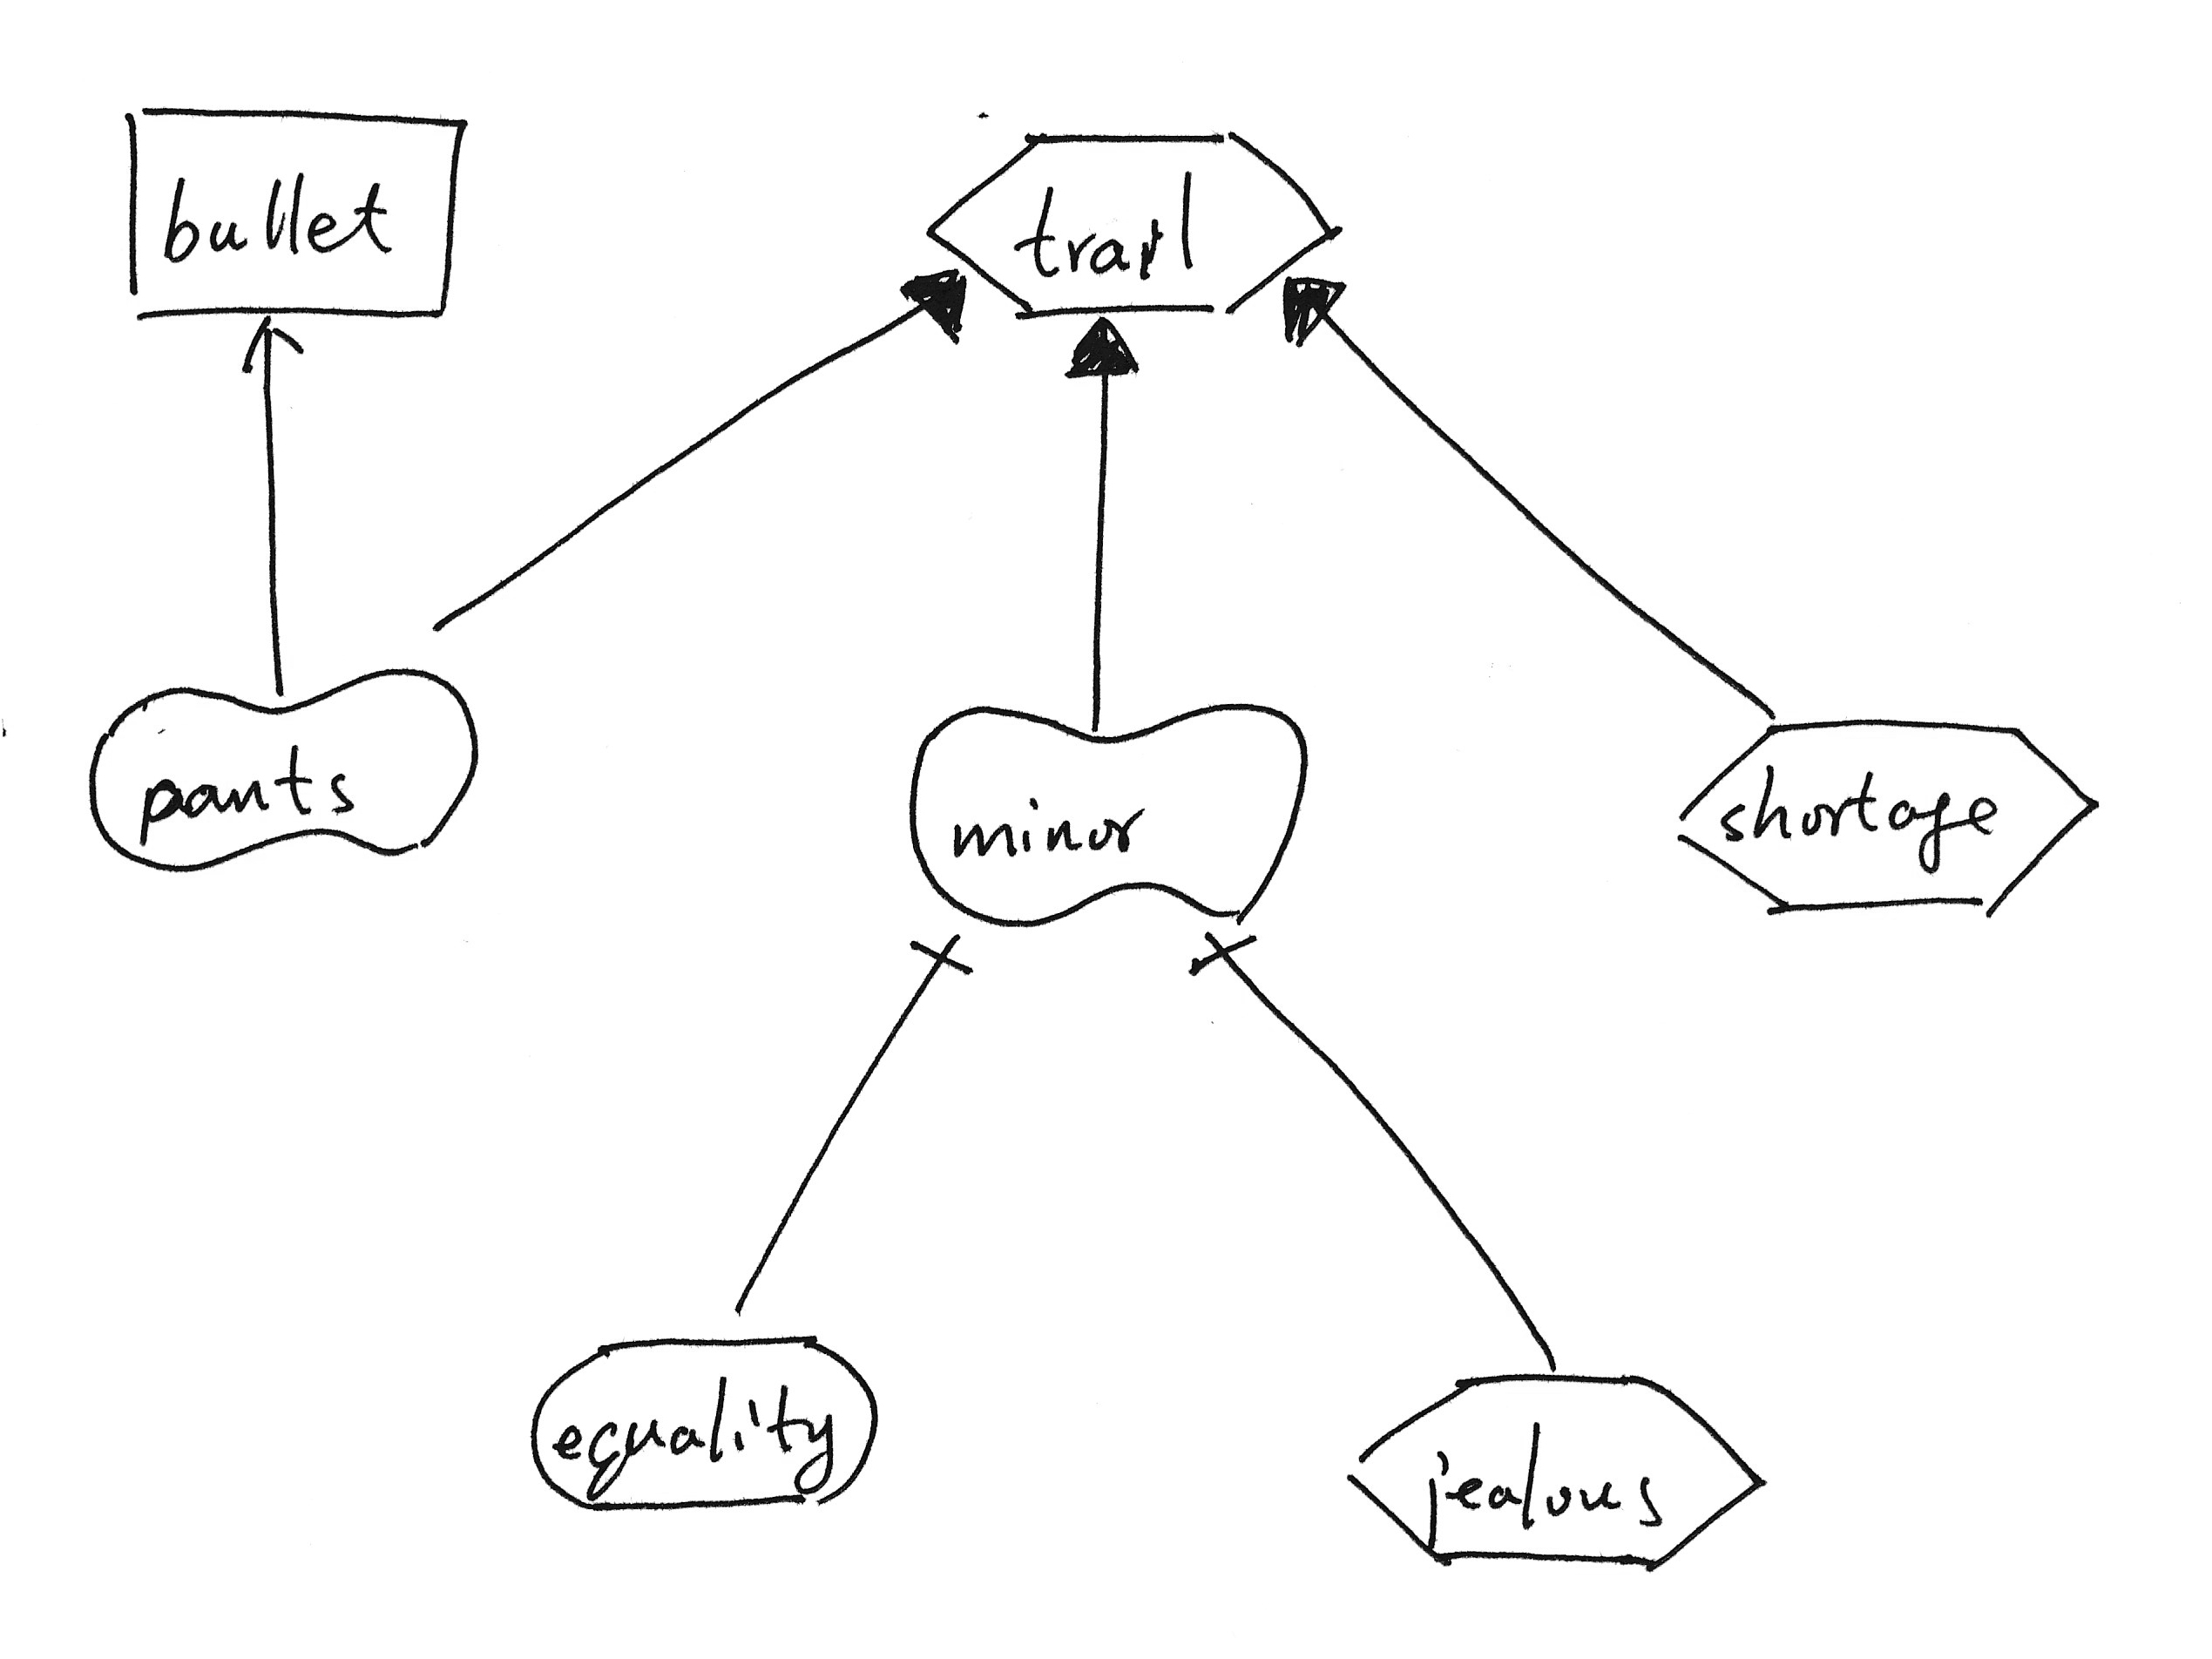and: (890, 917, 986, 1000), (1170, 920, 1271, 983)
arrow: (230, 303, 314, 387)
goal: (516, 1316, 894, 1534)
or: (887, 256, 986, 362), (1264, 260, 1362, 352), (1055, 307, 1146, 390)
quality: (892, 681, 1320, 939), (75, 659, 489, 896)
resource: (103, 78, 479, 340)
task: (1656, 702, 2111, 936), (911, 108, 1360, 342), (1331, 1352, 1780, 1577)
